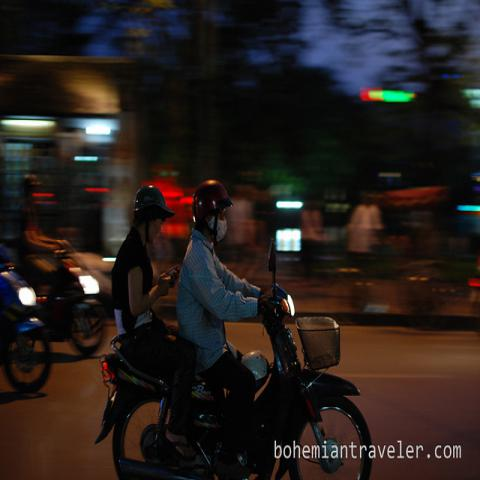motorcycle: (95, 237, 372, 474), (23, 248, 110, 357), (1, 262, 52, 392)
